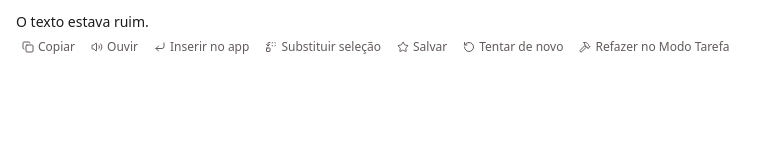
Scenario: replace selection › shows the before → after and can be undone
This screenshot has width=767, height=160.
Click the button "Substituir seleção" at [323, 47], box [259,37,387,57]
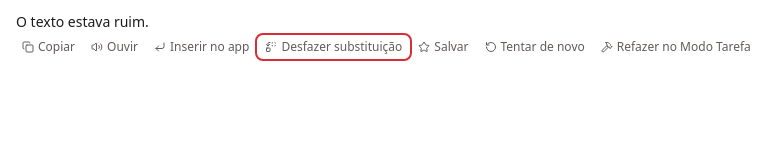
Click the button "Desfazer substituição" at [334, 47], box [259,37,408,57]
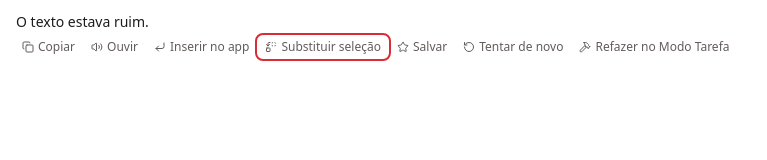
Result: the button "Substituir seleção" is shown at [259,37,387,57]
